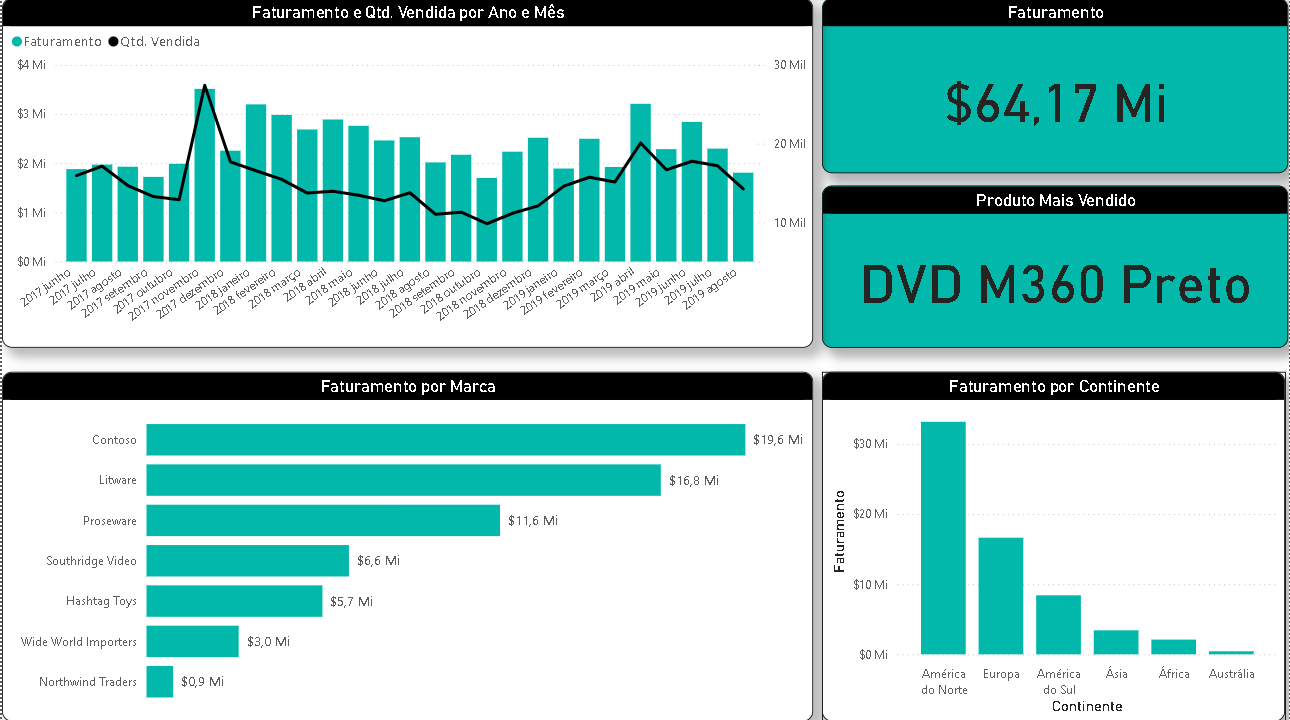

The dashboard page shown, as its layout file describes it:
{"tool":"powerbi","page":{"name":"Relatório de Vendas","canvas":[1280,720],"ordinal":0},"visuals":[{"type":"card","title":"Faturamento","fields":{"Values":["Sum(BaseVendas.Faturamento)"]},"box":[816,0,464,174.1],"z":0},{"type":"card","title":"Produto Mais Vendido","fields":{"Values":["Min(BaseVendas.Produto)"]},"box":[816,186.7,464,161.5],"z":1},{"type":"barChart","fields":{"Category":["BaseVendas.Marca"],"Y":["Sum(BaseVendas.Faturamento)"]},"box":[0,371.6,807.3,348.2],"z":2},{"type":"lineStackedColumnComboChart","fields":{"Y":["Sum(BaseVendas.Faturamento)"],"Category":["BaseVendas.Data da Venda.Variation.Hierarquia de datas.Ano","BaseVendas.Data da Venda.Variation.Hierarquia de datas.Mês"],"Y2":["Sum(BaseVendas.Qtd. Vendida)"]},"box":[0,0,807.3,348.2],"z":3},{"type":"columnChart","fields":{"Y":["Sum(BaseVendas.Faturamento)"],"Category":["BaseVendas.Continente"]},"box":[816,371.6,461,348.2],"z":4}]}

Visuals, with their boxes in screenshot pixels (x1, y1, x2, y2), scaled from the page's 1280x720 canvas onto the 1290x720 screenshot:
"Faturamento" card: (822, 0, 1289, 174)
"Produto Mais Vendido" card: (822, 187, 1289, 348)
barChart - BaseVendas.Marca x Sum(BaseVendas.Faturamento): (0, 372, 814, 719)
lineStackedColumnComboChart - Sum(BaseVendas.Faturamento) x BaseVendas.Data da Venda.Variation.Hierarquia de datas.Ano: (0, 0, 814, 348)
columnChart - Sum(BaseVendas.Faturamento) x BaseVendas.Continente: (822, 372, 1287, 719)
